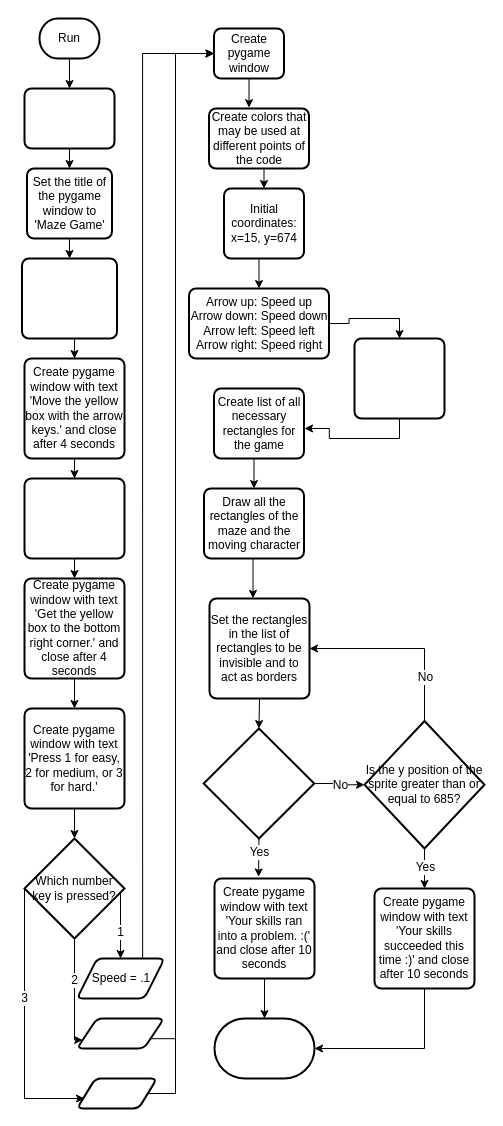
Image size: 503x1126. Some labels were removed from this diagram. Here are the shapes that lost their labels. From the top down, the centre of each, then its label:
At [69,118]: "Import the required modules (sys, pygame, time)".
At [69,298]: "Create pygame window with text 'Instructions:' and close after 2 seconds".
At [399,378]: "Draw a yellow box as a movable rectangle and set it to sprite".
At [74,518]: "Create pygame window with text 'Don't hit the walls.' and close after 4 seconds".
At [258,783]: "Does sprite collide with rectangle in list?".
At [120,1033]: "Speed = .3".
At [264,1048]: "Terminate".
At [117,1093]: "Speed = .5".
